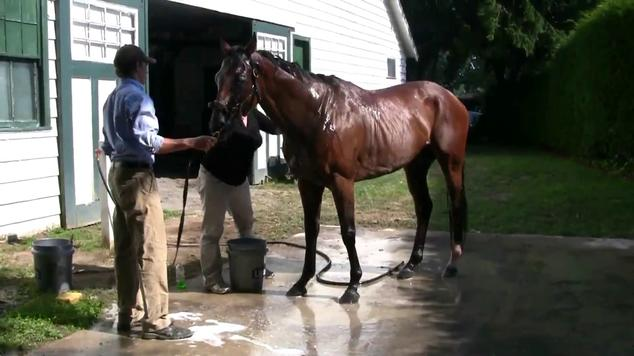sit: (215, 44, 261, 114)
stay: (188, 97, 269, 268)
